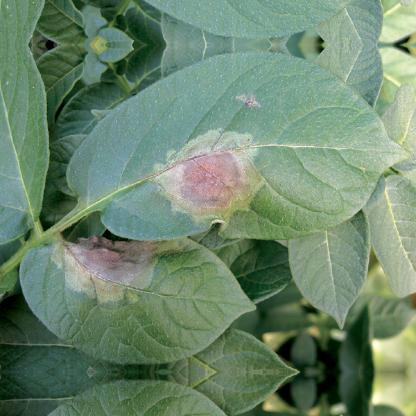Early-Blight: (70, 60, 378, 236), (13, 220, 260, 362), (13, 380, 260, 416)
